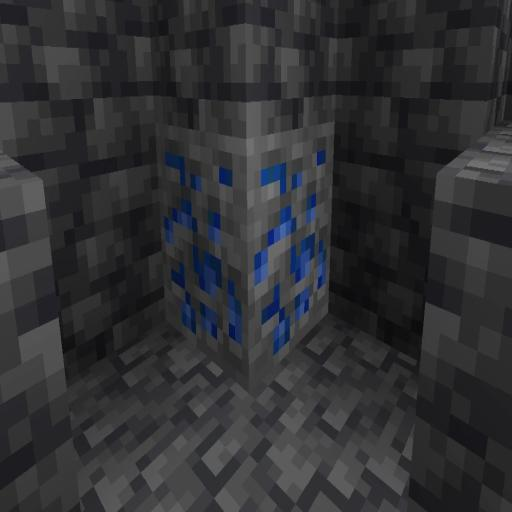lapis ore: (152, 118, 347, 382)
